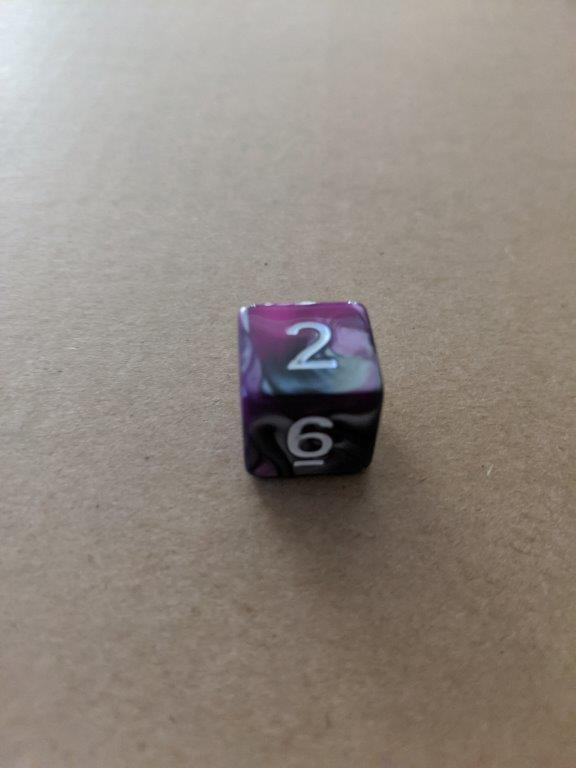d6-2: (236, 303, 384, 478)
